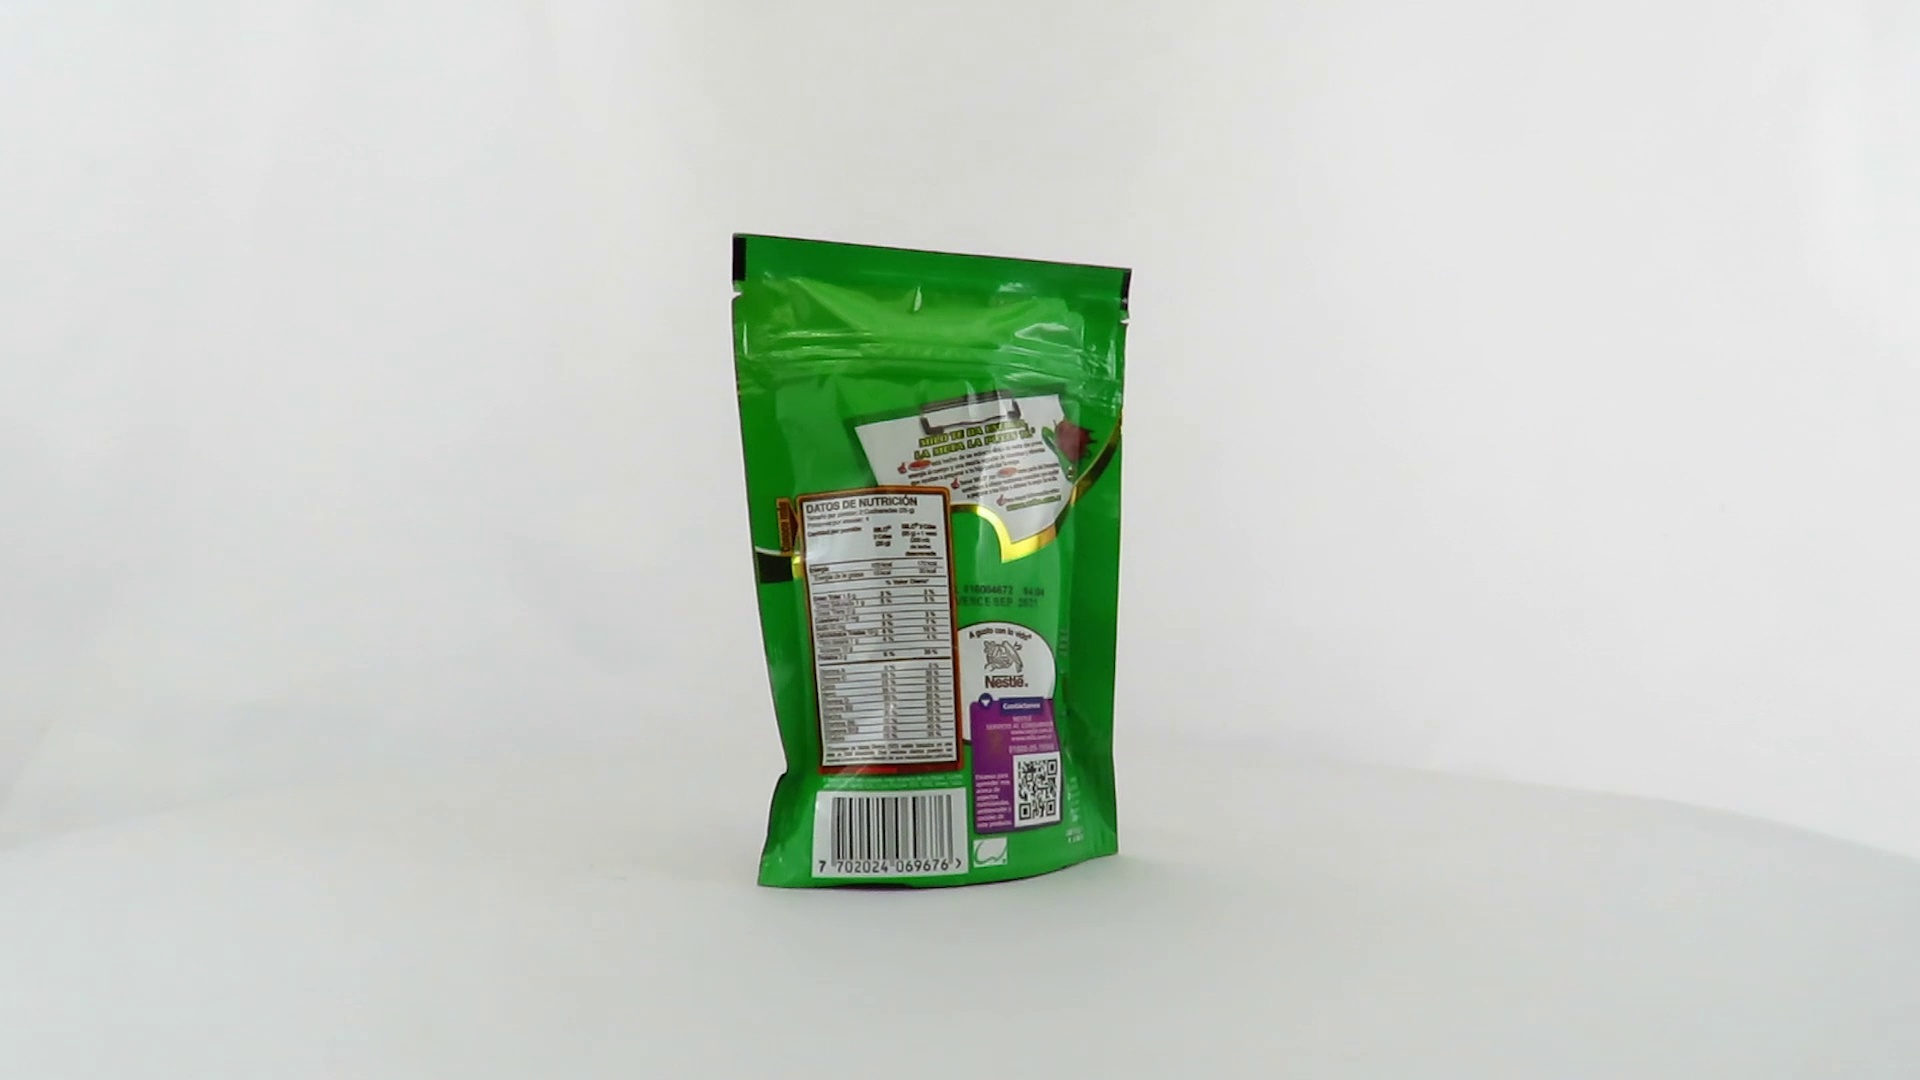COL0170203DYP10000: (727, 228, 1138, 898)
